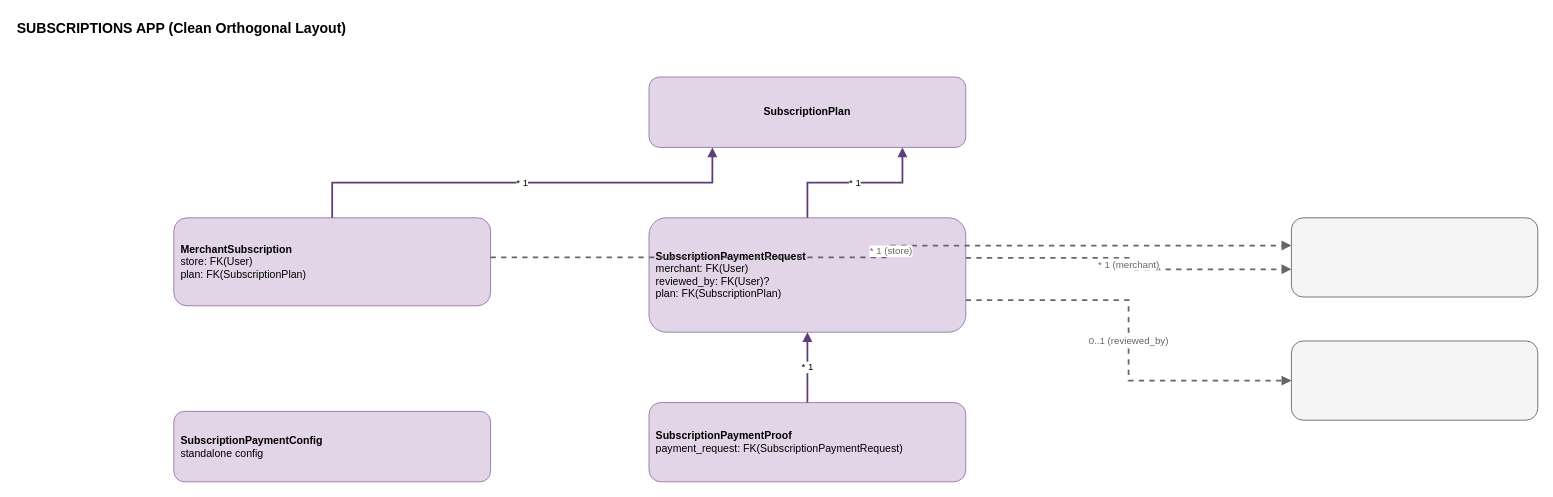
Image size: 1553x497. Some labels were removed from this diagram. Each missing label, with the centre of its shape:
"Users.User reviewed_by" belongs at point (1414, 380).
"Users.User store / merchant" belongs at point (1414, 257).
